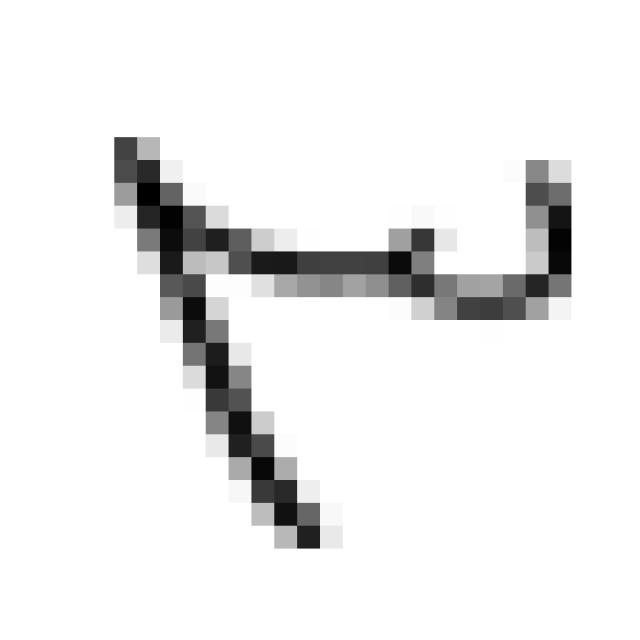3 -three-: (93, 110, 590, 569)
